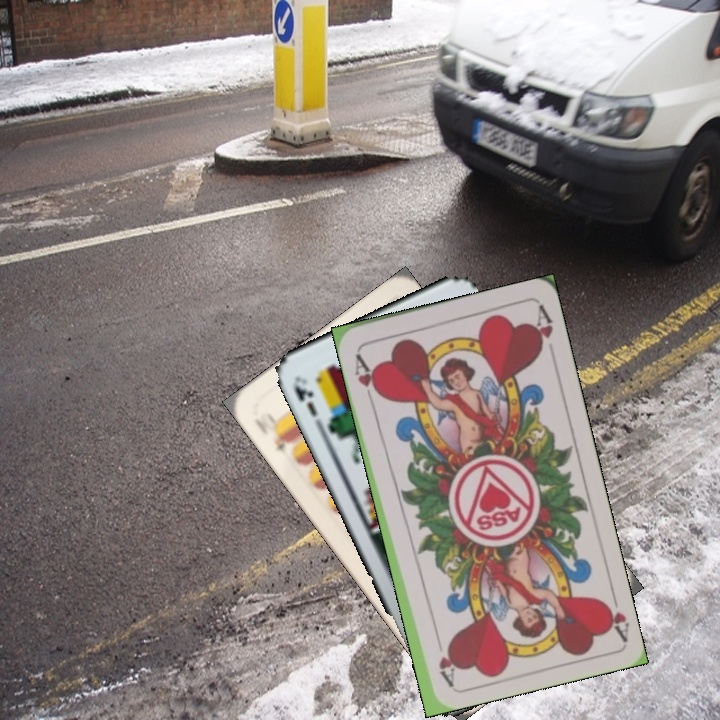E10: (263, 423, 296, 456)
EK: (289, 376, 320, 419)
HA: (596, 583, 631, 642), (350, 347, 383, 405)
